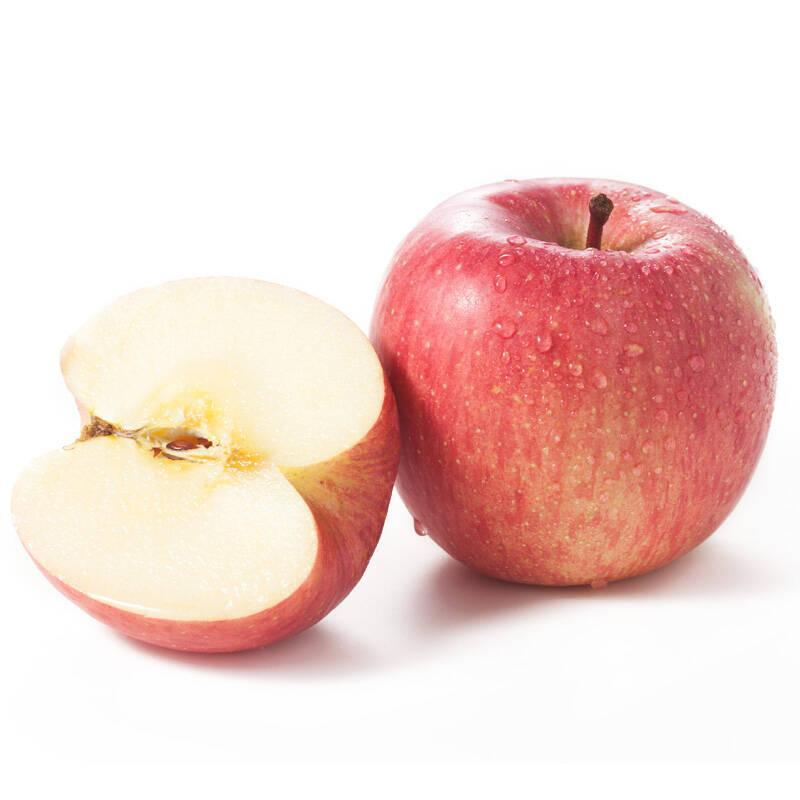apple: (375, 183, 779, 586)
